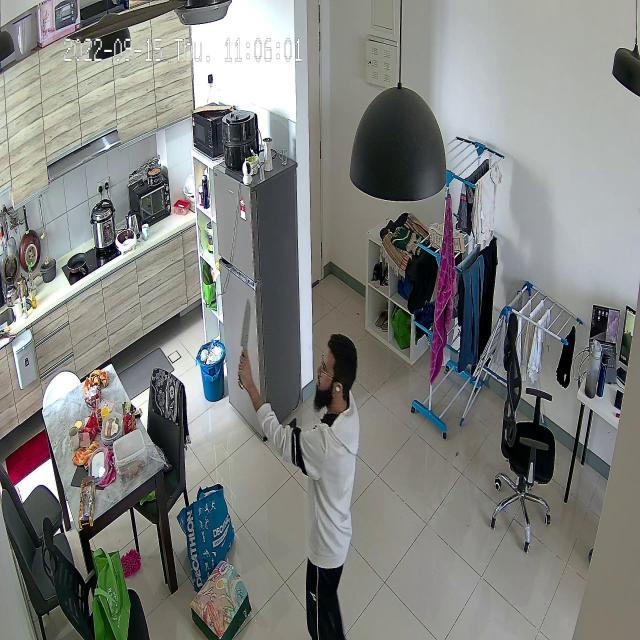Knife: (230, 291, 268, 387)
